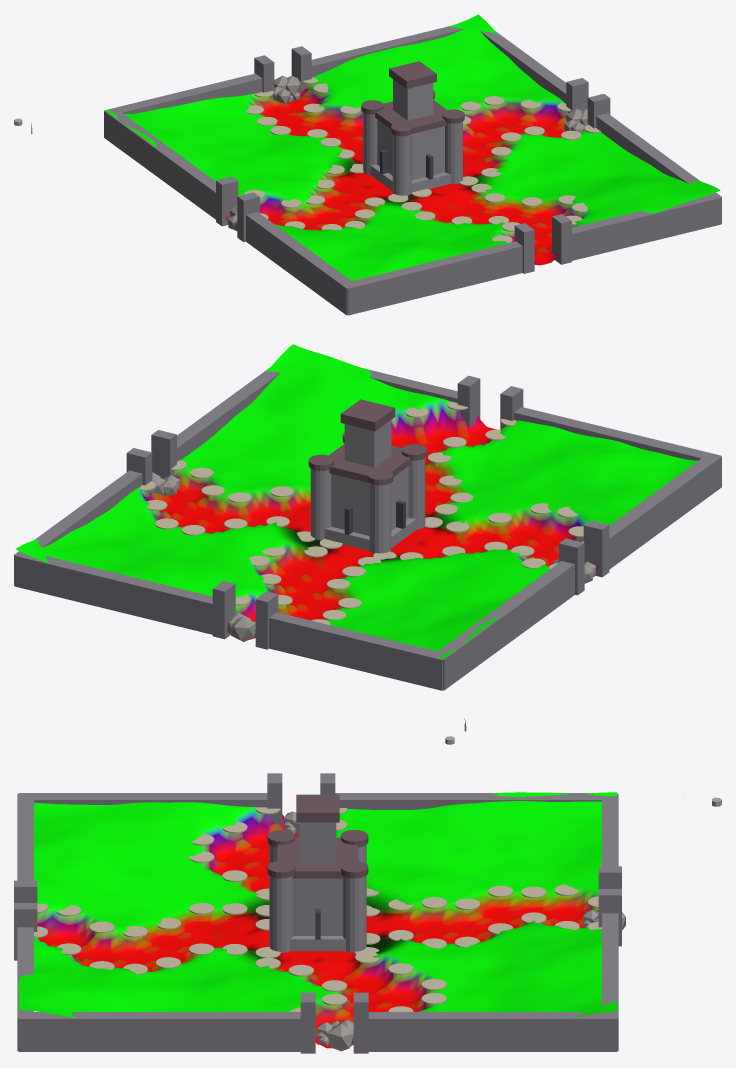
Rendered from keep_arena.glb.
The picture shows the model from 3 angles, top to bottom: view 1: azimuth 30°, elevation 25°; view 2: azimuth 150°, elevation 25°; view 3: azimuth 270°, elevation 25°; orthographic projection. The views are drawn at different scales.
Visible parts, largest first — view 1: terrain, wall_south_a, wall_south_b, wall_west_a, wall_west_b, wall_north_a, wall_east_b, keep_walls, wall_north_b, wall_east_a, keep_tower_core, keep_corner_3 (+13 smaller); view 2: terrain, wall_north_b, wall_north_a, wall_west_a, wall_west_b, keep_walls, wall_south_a, wall_east_b, wall_east_a, keep_tower_core, keep_corner_0, keep_corner_1 (+13 smaller); view 3: terrain, wall_east_b, wall_east_a, wall_west_a, keep_walls, wall_west_b, keep_corner_1, keep_corner_2, wall_north_b, keep_roof, keep_tower_core, wall_south_a (+12 smaller).
Boxes of the visible parts, left/top/right/bottom form: terrain: left=106, top=14, right=720, bottom=280; wall_south_a: left=342, top=241, right=522, bottom=315; wall_south_b: left=572, top=193, right=721, bottom=260; wall_west_a: left=104, top=110, right=215, bottom=219; wall_west_b: left=246, top=212, right=356, bottom=315; wall_north_a: left=104, top=73, right=262, bottom=114; wall_east_b: left=596, top=113, right=721, bottom=223; keep_walls: left=377, top=119, right=444, bottom=180; wall_north_b: left=311, top=25, right=463, bottom=77; wall_east_a: left=480, top=31, right=566, bottom=103; keep_tower_core: left=393, top=79, right=433, bottom=120; keep_corner_3: left=392, top=134, right=411, bottom=195; terrain: left=15, top=344, right=697, bottom=658; wall_north_b: left=14, top=554, right=212, bottom=634; wall_north_a: left=269, top=612, right=449, bottom=690; wall_west_a: left=432, top=561, right=574, bottom=690; wall_west_b: left=609, top=454, right=721, bottom=569; keep_walls: left=331, top=466, right=408, bottom=535; wall_south_a: left=514, top=407, right=720, bottom=461; wall_east_b: left=177, top=368, right=280, bottom=461; wall_east_a: left=14, top=470, right=142, bottom=585; keep_tower_core: left=344, top=420, right=391, bottom=467; keep_corner_0: left=369, top=483, right=391, bottom=553; keep_corner_1: left=310, top=469, right=331, bottom=540; terrain: left=19, top=792, right=616, bottom=1048; wall_east_b: left=19, top=1012, right=300, bottom=1051; wall_east_a: left=368, top=1012, right=616, bottom=1051; wall_west_a: left=335, top=793, right=613, bottom=809; keep_walls: left=293, top=878, right=342, bottom=935; wall_west_b: left=19, top=793, right=267, bottom=807; keep_corner_1: left=342, top=875, right=366, bottom=952; keep_corner_2: left=269, top=875, right=293, bottom=952; wall_north_b: left=602, top=913, right=618, bottom=1051; keep_roof: left=278, top=837, right=357, bottom=878; keep_tower_core: left=299, top=822, right=336, bottom=862; wall_south_a: left=17, top=793, right=33, bottom=880.
Size of the model in its own units: 18.39 by 4.69 by 21.31.
